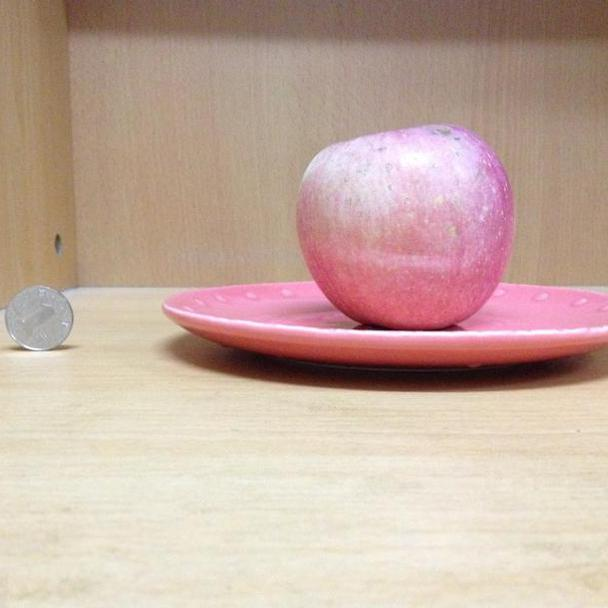apple: (292, 125, 516, 327)
